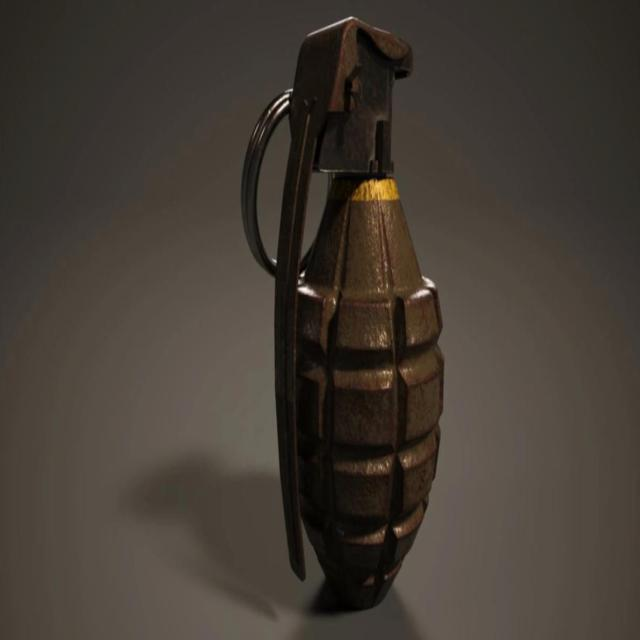grenade: (242, 17, 447, 599)
